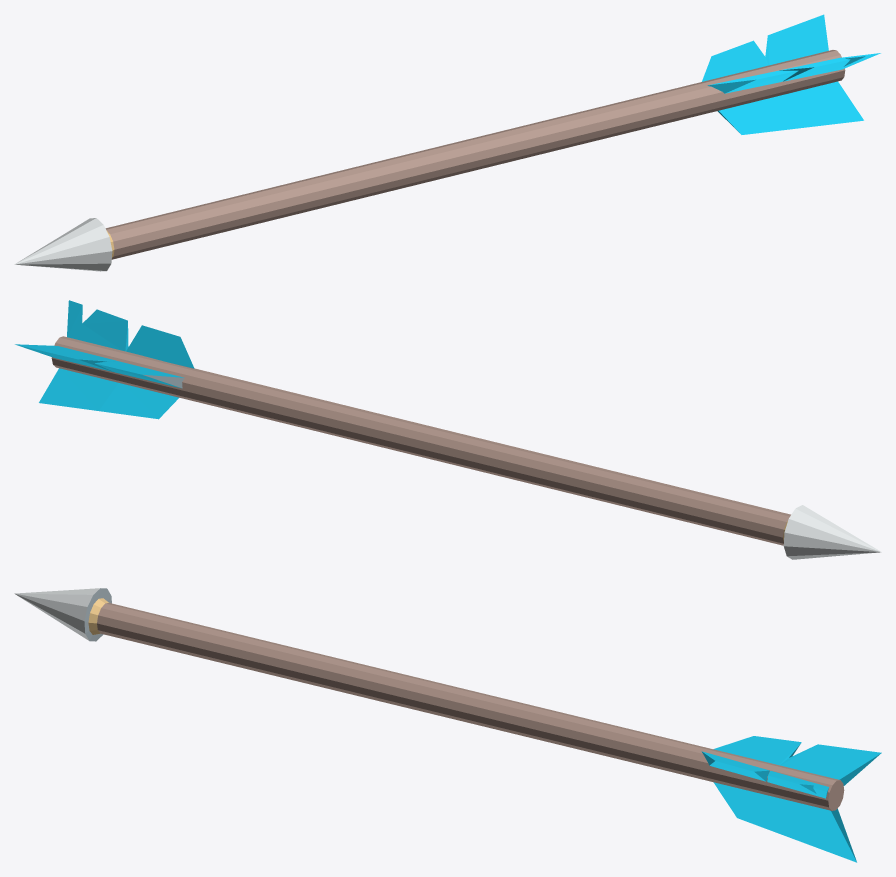
Rendered from Arrow.fbx.
The picture shows the model from 3 angles, top to bottom: view 1: azimuth 30°, elevation 25°; view 2: azimuth 150°, elevation 25°; view 3: azimuth 330°, elevation 25°; orthographic projection.
Visible parts, largest first — view 1: group2031924577, group1798053712; view 2: group2031924577, group1798053712; view 3: group2031924577, group1798053712.
Boxes of the visible parts, bbox=[...] form: group2031924577: bbox=[14, 50, 845, 271]; group1798053712: bbox=[702, 14, 880, 134]; group2031924577: bbox=[51, 336, 881, 559]; group1798053712: bbox=[15, 300, 194, 419]; group2031924577: bbox=[14, 588, 844, 810]; group1798053712: bbox=[701, 736, 881, 862].
Bounding box in the file's own units: 122 × 11.95 × 14.06.
